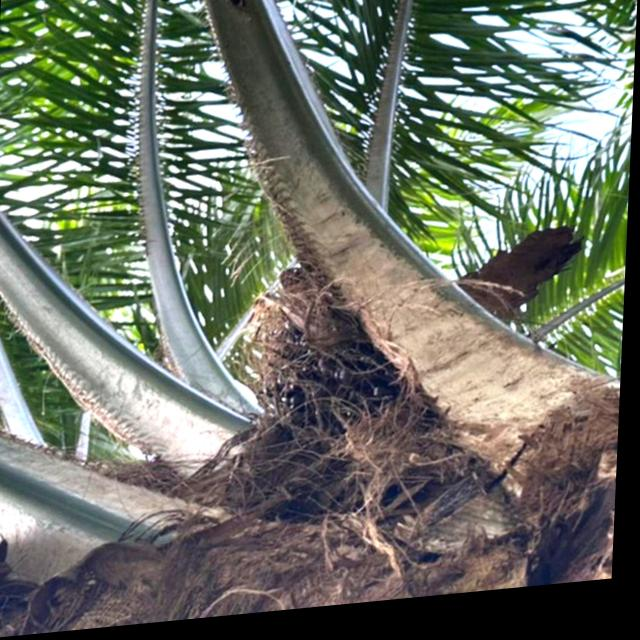unripe: (236, 252, 416, 458)
